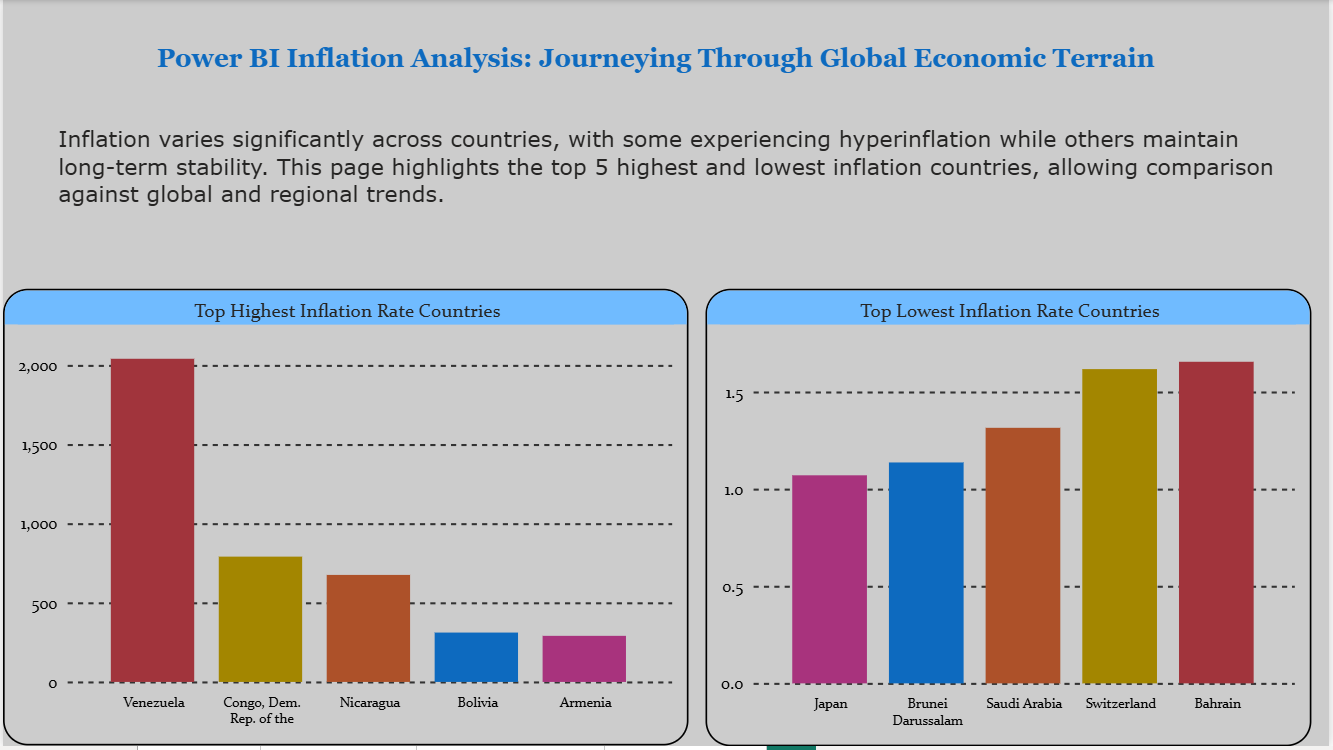

Layout of this report page (visuals, bound fields, positions):
{"tool":"powerbi","page":{"name":"Inflation by Country","canvas":[1280,720],"ordinal":2},"visuals":[{"type":"clusteredColumnChart","title":"Top Lowest Inflation Rate Countries","fields":{"Y":["Avg(Fact_inflation_data.Inflation_rate)"],"Category":["Dim_Region.country_name"]},"box":[677.9,278.6,584.6,441.9],"z":0},{"type":"clusteredColumnChart","title":"Top Highest Inflation Rate Countries","fields":{"Y":["Avg(Fact_inflation_data.Inflation_rate)"],"Category":["Dim_Region.country_name"]},"box":[0,278.6,661.4,440.5],"z":1000},{"type":"textbox","box":[48.3,115.8,1195.6,106.2],"z":2000},{"type":"textbox","box":[143.6,36.2,979.6,79.6],"z":3000}]}

Visuals, with their boxes in screenshot pixels (x1, y1, x2, y2), scaled from the page's 1280x720 canvas onto the 1333x750 screenshot:
"Top Lowest Inflation Rate Countries" clusteredColumnChart: Rect(706, 290, 1315, 749)
"Top Highest Inflation Rate Countries" clusteredColumnChart: Rect(0, 290, 689, 749)
textbox: Rect(50, 121, 1295, 231)
textbox: Rect(150, 38, 1170, 121)
